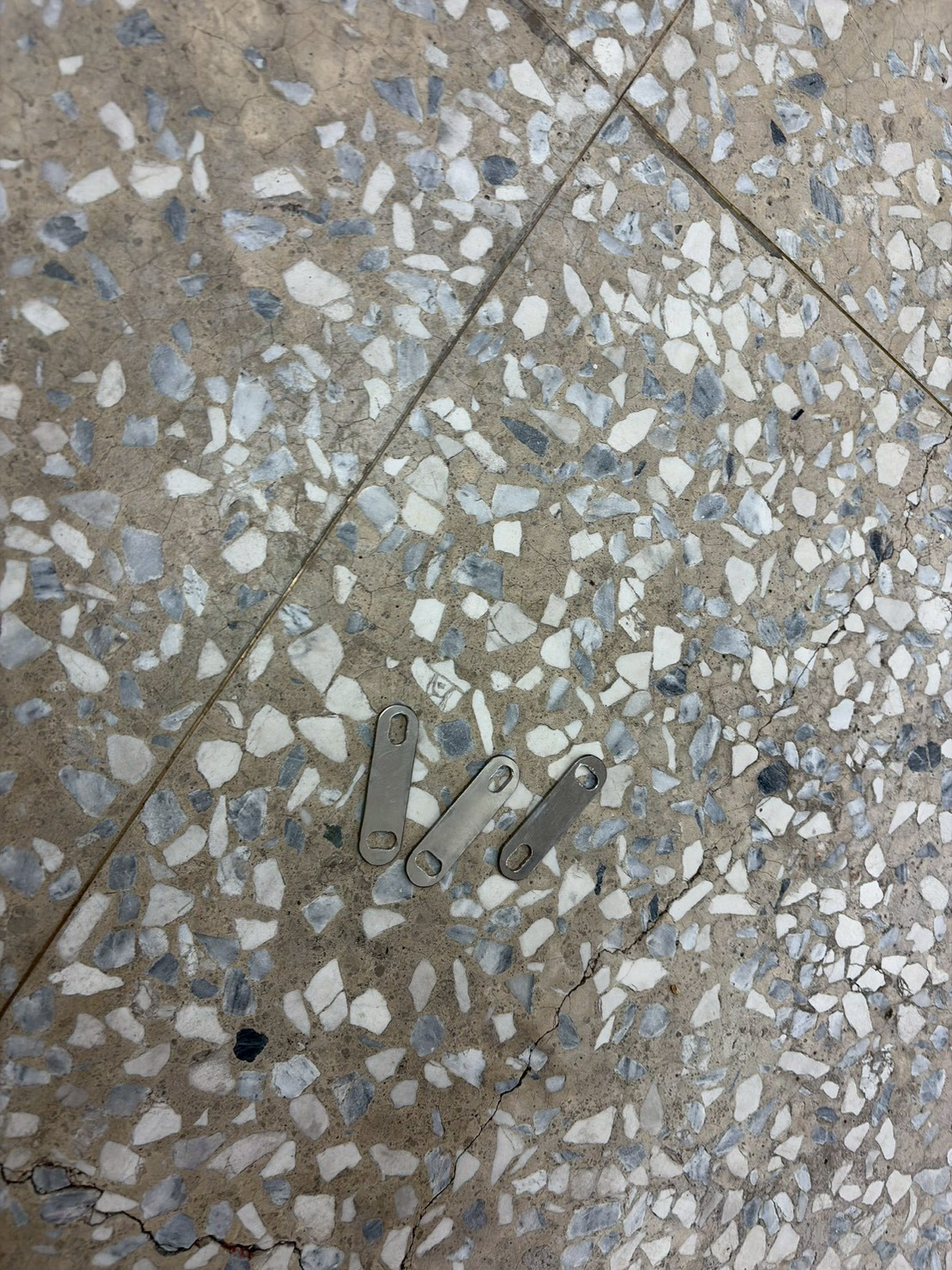Fe: (379, 698, 428, 865), (501, 741, 549, 908), (590, 741, 638, 908)
